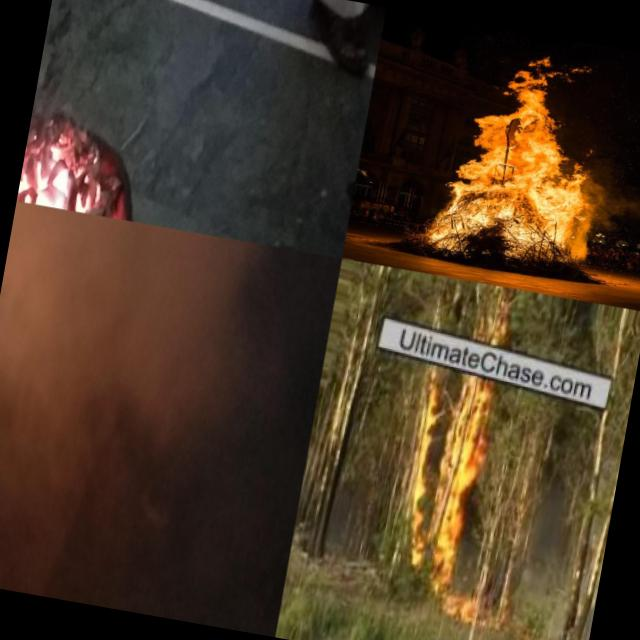fire: (418, 39, 626, 272), (382, 370, 522, 624), (17, 95, 122, 216)
smoke: (0, 201, 274, 511)
